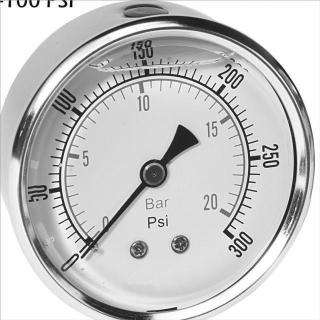gauge: (0, 13, 320, 320), (72, 232, 104, 266), (212, 218, 243, 251), (140, 158, 168, 187), (78, 248, 92, 264)
